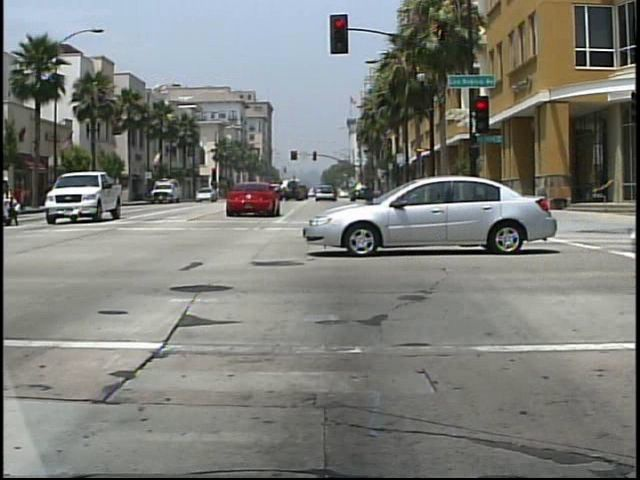person: (1, 173, 26, 230)
